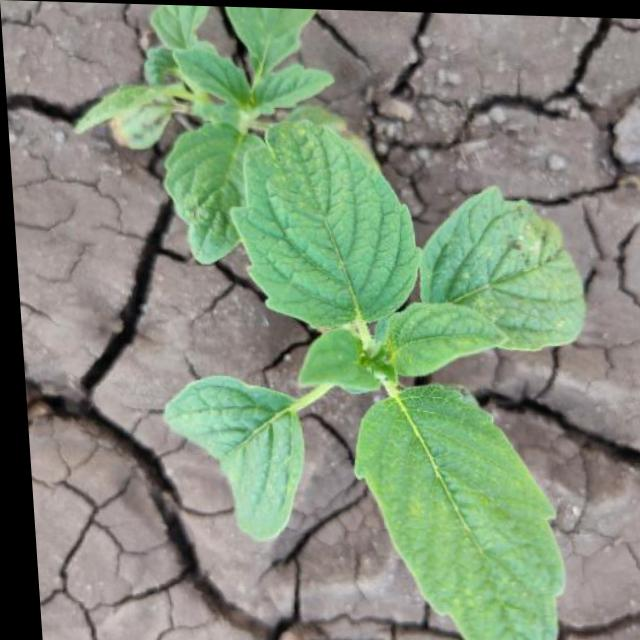crop: (143, 117, 601, 640)
